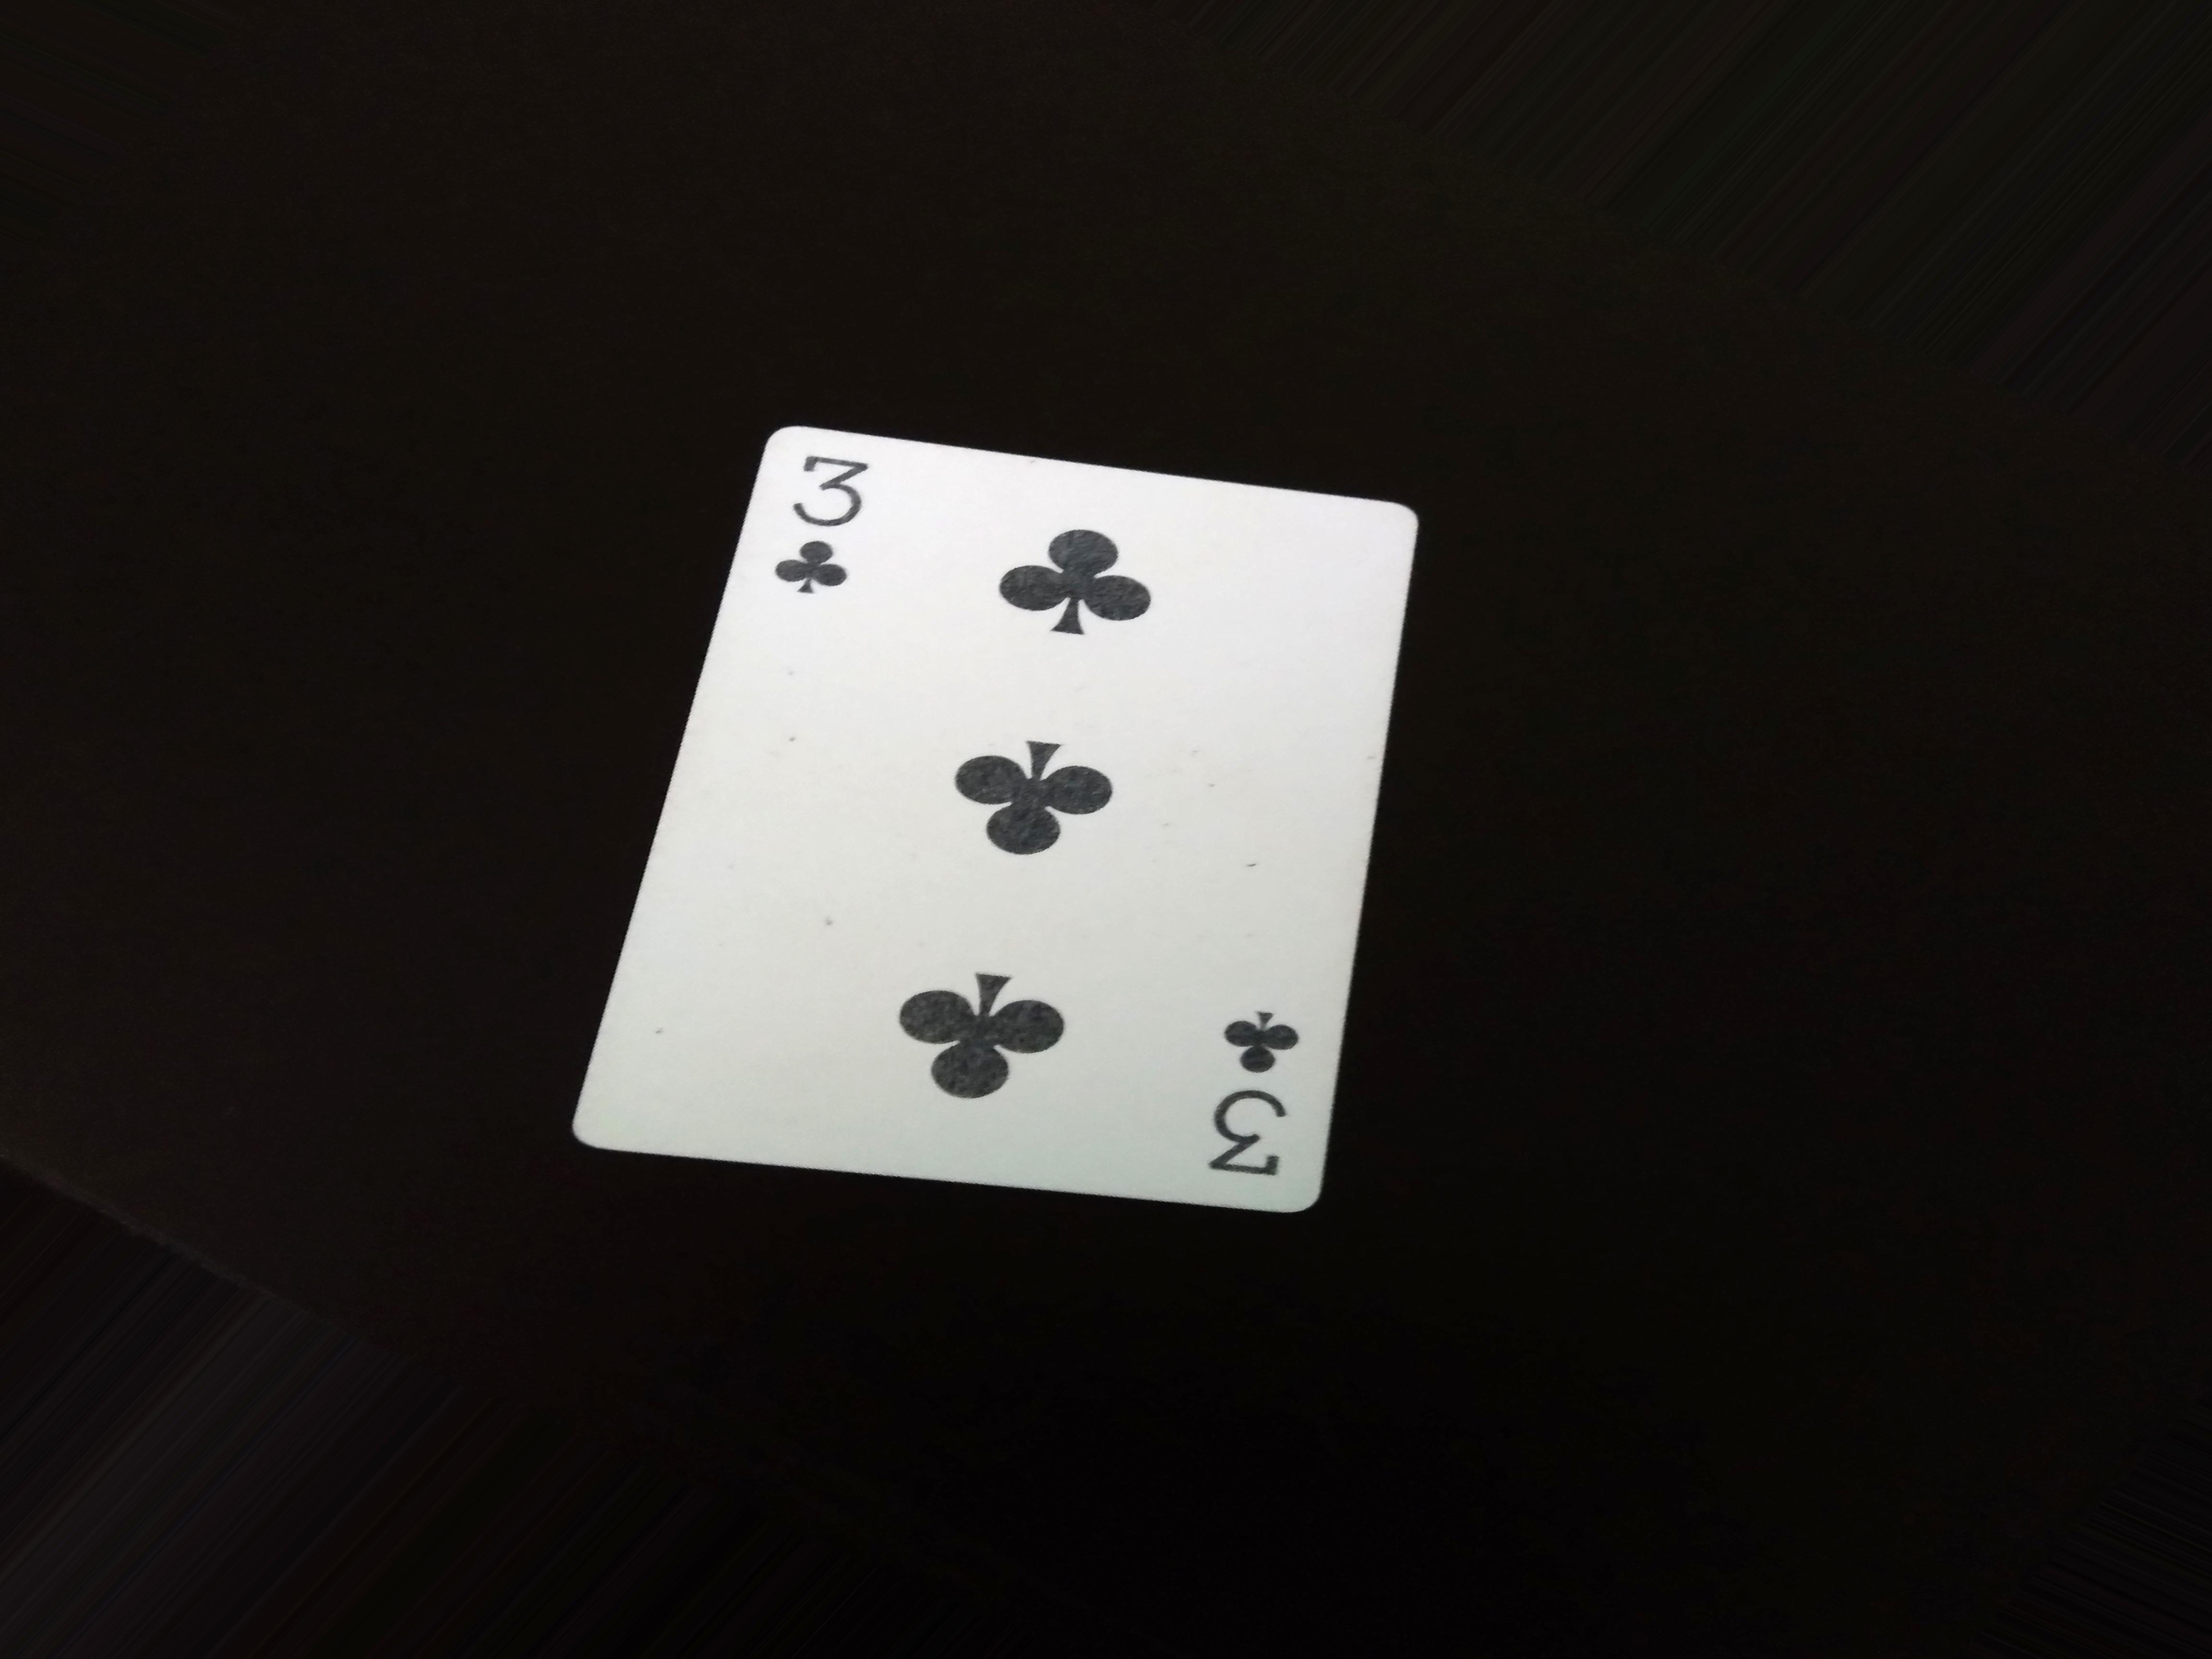3C: (772, 437, 892, 624)
